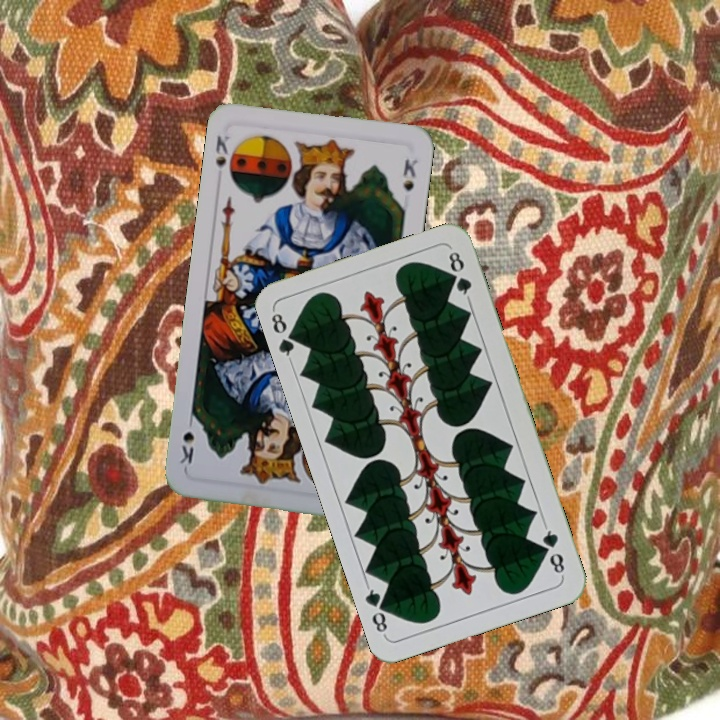G8: (267, 307, 303, 364), (538, 521, 568, 579)
SK: (211, 131, 232, 171)
